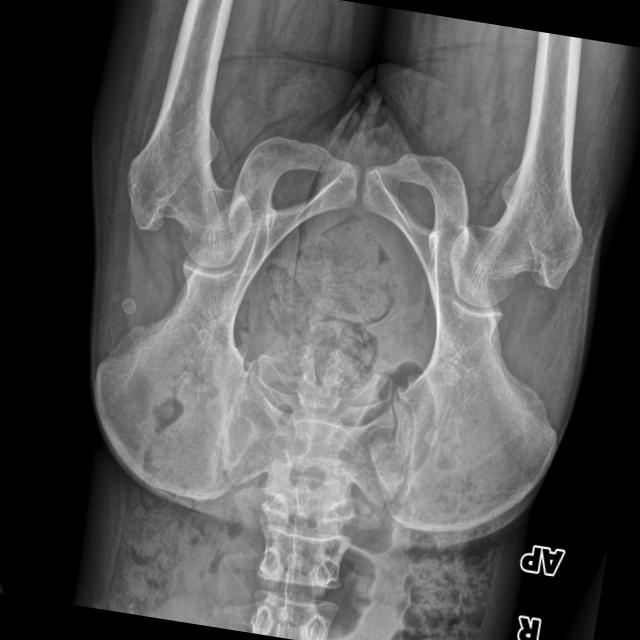normal-left: (127, 0, 251, 267)
normal-right: (450, 30, 582, 306)
